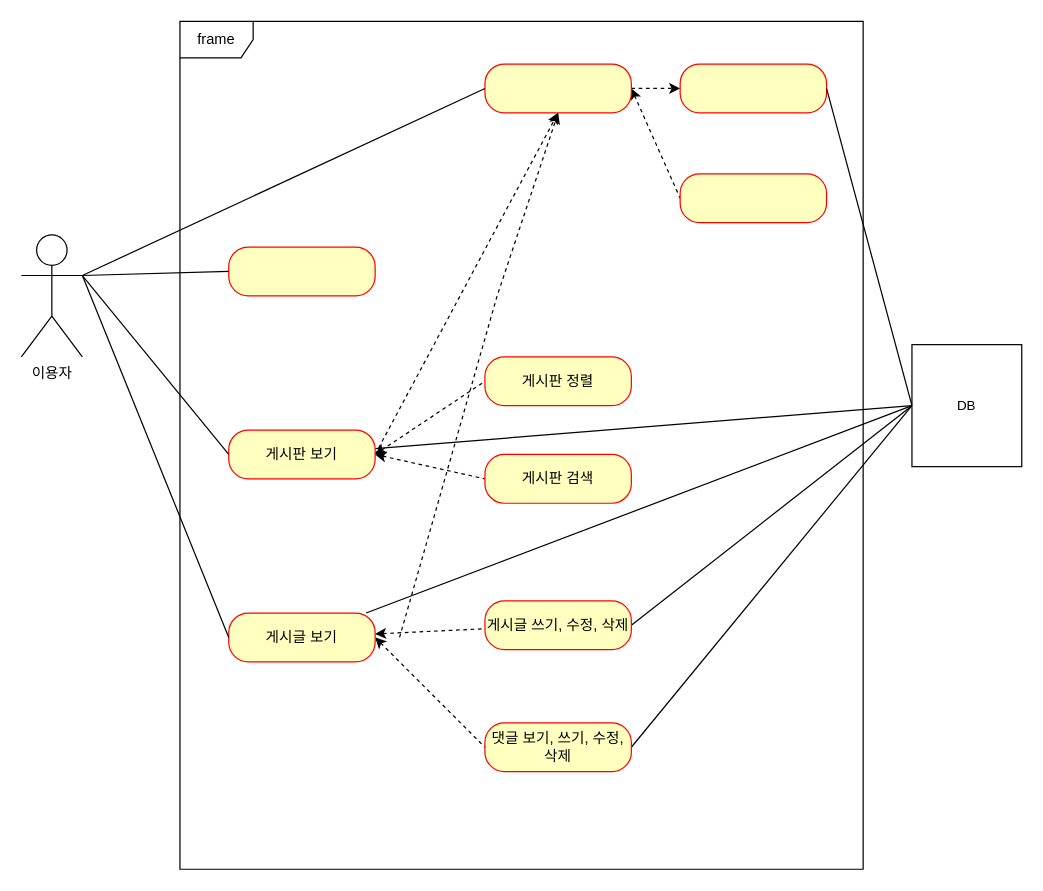
This 1043x891 diagram has some shape labels left out. The shapes that lost their labels are listed below. From the top down, each one's centre as x and y in pixels, then its label:
At (x=557, y=88): "회원 로그인".
At (x=753, y=88): "인증".
At (x=753, y=198): "로그인 실패".
At (x=301, y=271): "회원 가입".
